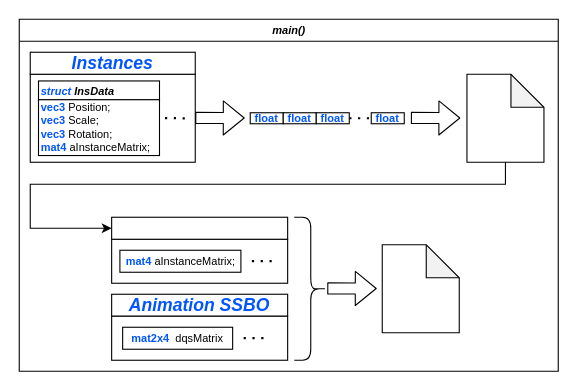
Some shapes in this 578 by 391 pixel diagram are drawn without their labels. Each missing label, with the centre of its shape:
"Compute Shader" belongs at point 505,117.
"Model SSBO" belongs at point 199,227.
"Vertex Shader" belongs at point 420,288.
